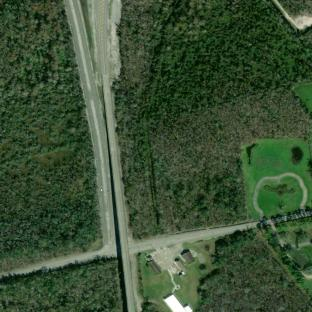Floresta: (114, 0, 312, 239), (0, 0, 101, 270), (198, 232, 312, 312), (0, 260, 122, 312)
